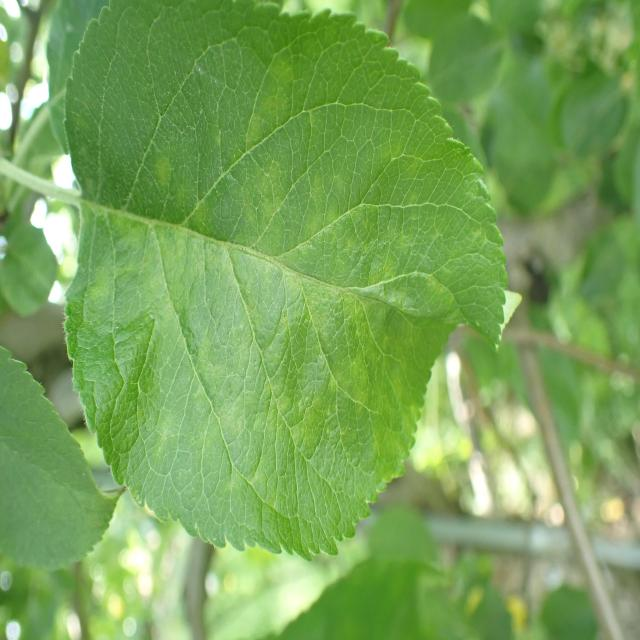scab: (88, 58, 450, 530)
